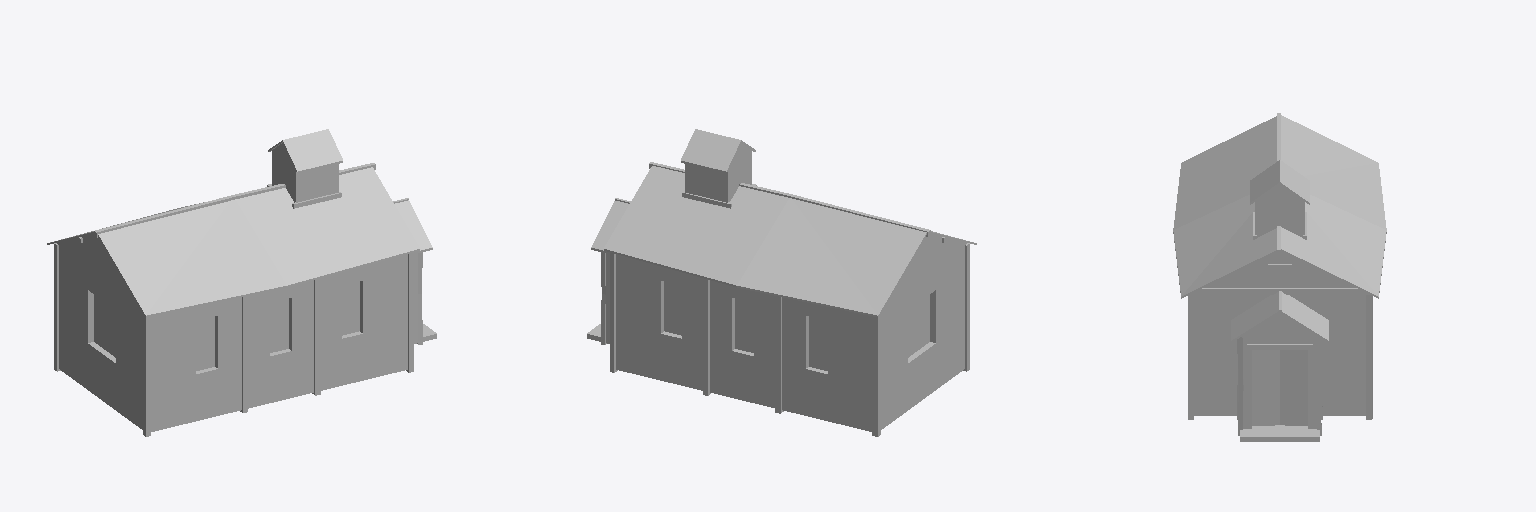
Rendered from old_wooden_church.obj.
3 views of the same model, side by side, from view 1: azimuth 30°, elevation 25°; view 2: azimuth 150°, elevation 25°; view 3: azimuth 270°, elevation 25° (orthographic).
Visible parts, largest first — view 1: church_Cube; view 2: church_Cube; view 3: church_Cube.
Boxes of the visible parts, x1=… form: church_Cube: x1=47, y1=129, x2=436, y2=436; church_Cube: x1=587, y1=129, x2=976, y2=436; church_Cube: x1=1173, y1=113, x2=1386, y2=441.
Size of the model in its own units: 5.39 by 3.49 by 3.09.